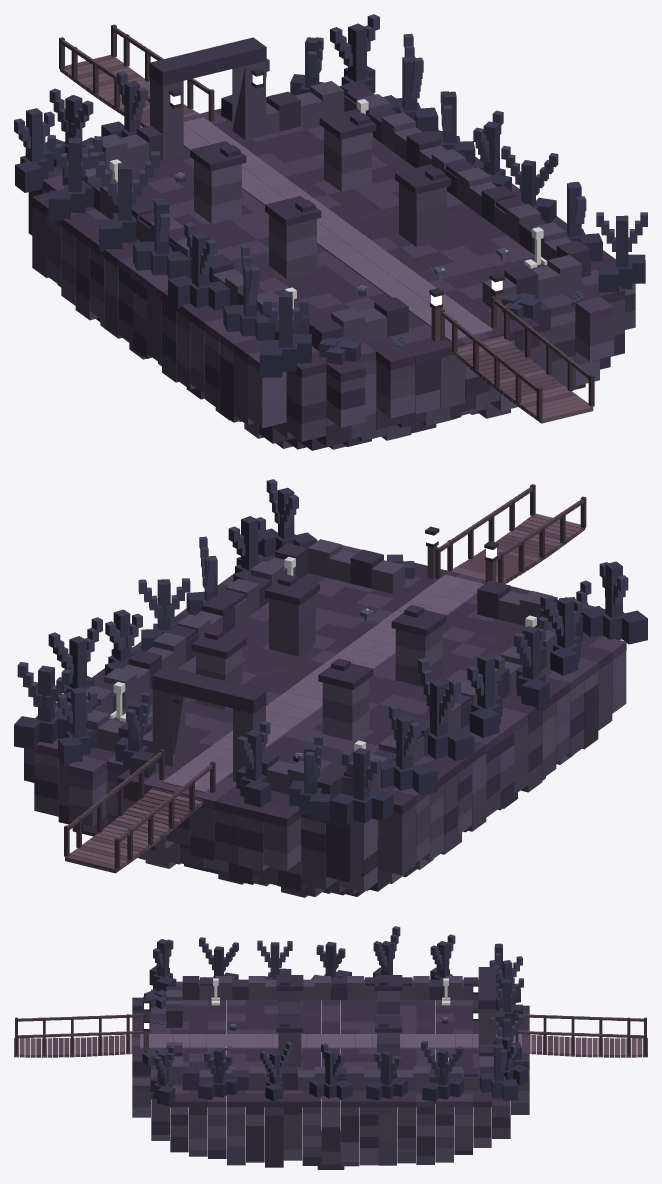
Rendered from room_pillars_polluted.glb.
3 views of the same model, one above another, from view 1: azimuth 30°, elevation 25°; view 2: azimuth 150°, elevation 25°; view 3: azimuth 270°, elevation 25° (orthographic). The views are drawn at different scales.
Parts seen in each view (by area): view 1: room_pillars_blocks, tree2_(0, 0).002, tree0_(0, 0).001, tree4_(0, 0).001, tree4_(0, 0).002, tree1_(0, 0).001, tree0_(0, 0).003, tree0_(0, 0).002, tree1_(0, 0).003, tree2_(0, 0).001, tree5_(0, 0).002, tree5_(0, 0).001 (+8 smaller); view 2: room_pillars_blocks, tree1_(0, 0).003, tree2_(0, 0).002, tree0_(0, 0).003, tree0_(0, 0).001, tree4_(0, 0).002, tree2_(0, 0).001, tree0_(0, 0).002, tree4_(0, 0).001, tree3_(0, 0).003, tree4_(0, 0).003, tree1_(0, 0).001 (+7 smaller); view 3: room_pillars_blocks, tree5_(0, 0).002, tree3_(0, 0).001, tree1_(0, 0).002, tree1_(0, 0).003, tree3_(0, 0).002, tree1_(0, 0).001, tree5_(0, 0).001, tree0_(0, 0).001, tree4_(0, 0).003, tree4_(0, 0).001, tree2_(0, 0).001 (+6 smaller).
Boxes of the visible parts, bbox=[...] form: room_pillars_blocks: bbox=[28, 24, 635, 450]; tree2_(0, 0).002: bbox=[90, 151, 159, 251]; tree0_(0, 0).001: bbox=[259, 291, 311, 377]; tree4_(0, 0).001: bbox=[168, 222, 229, 310]; tree4_(0, 0).002: bbox=[47, 135, 102, 221]; tree1_(0, 0).001: bbox=[596, 212, 647, 294]; tree0_(0, 0).003: bbox=[14, 108, 54, 192]; tree0_(0, 0).002: bbox=[133, 199, 190, 279]; tree1_(0, 0).003: bbox=[330, 14, 379, 95]; tree2_(0, 0).001: bbox=[223, 244, 274, 340]; tree5_(0, 0).002: bbox=[386, 33, 438, 131]; tree5_(0, 0).001: bbox=[501, 145, 558, 223]; room_pillars_blocks: bbox=[24, 484, 626, 897]; tree1_(0, 0).003: bbox=[14, 662, 72, 749]; tree2_(0, 0).002: bbox=[417, 657, 474, 760]; tree0_(0, 0).003: bbox=[329, 748, 393, 824]; tree0_(0, 0).001: bbox=[580, 561, 647, 644]; tree4_(0, 0).002: bbox=[381, 705, 437, 795]; tree2_(0, 0).001: bbox=[540, 580, 591, 675]; tree0_(0, 0).002: bbox=[467, 654, 504, 737]; tree4_(0, 0).001: bbox=[514, 616, 549, 710]; tree3_(0, 0).003: bbox=[57, 687, 97, 765]; tree4_(0, 0).003: bbox=[236, 721, 271, 807]; tree1_(0, 0).001: bbox=[258, 479, 317, 556]; room_pillars_blocks: bbox=[14, 967, 647, 1169]; tree5_(0, 0).002: bbox=[421, 1040, 463, 1103]; tree3_(0, 0).001: bbox=[198, 1047, 238, 1099]; tree1_(0, 0).002: bbox=[309, 1043, 352, 1100]; tree1_(0, 0).003: bbox=[479, 1036, 518, 1100]; tree3_(0, 0).002: bbox=[366, 1050, 407, 1100]; tree1_(0, 0).001: bbox=[150, 1045, 175, 1105]; tree5_(0, 0).001: bbox=[260, 1042, 292, 1101]; tree0_(0, 0).001: bbox=[149, 939, 176, 991]; tree4_(0, 0).003: bbox=[496, 978, 523, 1028]; tree4_(0, 0).001: bbox=[257, 940, 292, 979]; tree2_(0, 0).001: bbox=[199, 937, 238, 979].
Size of the model in its own units: 18.21 by 12.1 by 38.5.
